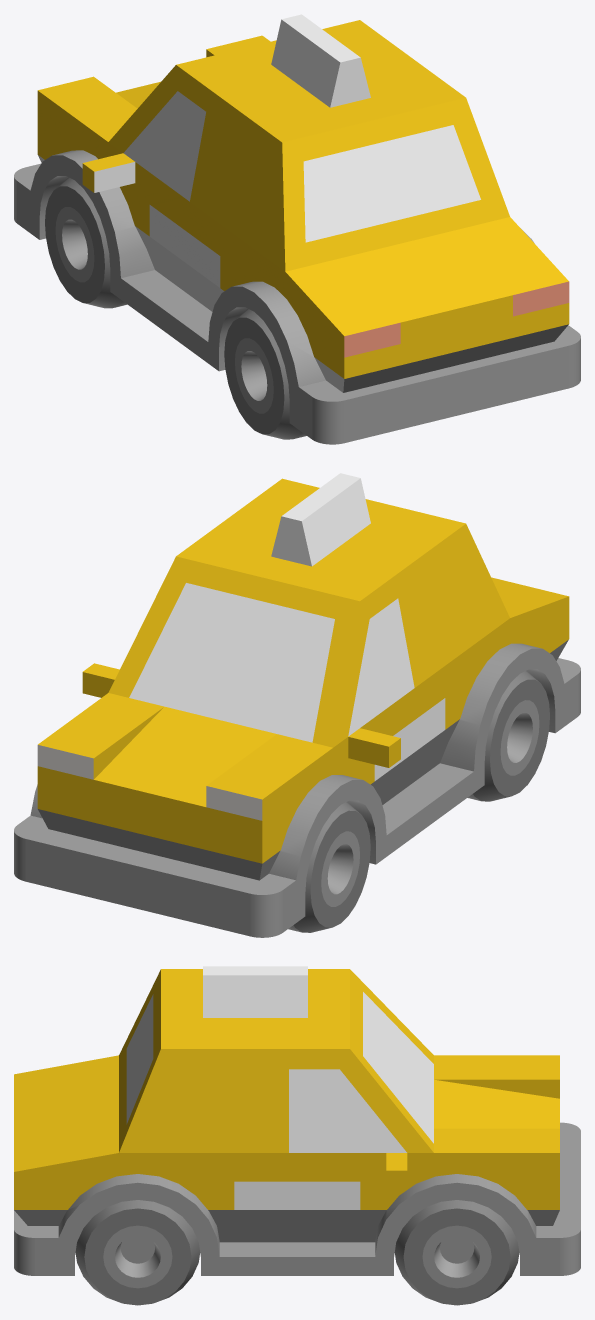
The model's file is taxi.glb.
3 views of the same model, one above another, from view 1: azimuth 30°, elevation 25°; view 2: azimuth 150°, elevation 25°; view 3: azimuth 270°, elevation 25° (orthographic). The views are drawn at different scales.
Visible parts, largest first — view 1: body, wheel_frontLeft, wheel_backLeft; view 2: body, wheel_backLeft, wheel_frontLeft; view 3: body, wheel_backRight, wheel_frontRight.
Part boxes in pixels (x1,y1,x2,y2): body: (14,14,580,444); wheel_frontLeft: (45,177,127,308); wheel_backLeft: (224,309,306,439); body: (14,473,580,937); wheel_backLeft: (467,671,549,801); wheel_frontLeft: (288,802,370,932); body: (14,966,580,1275); wheel_backRight: (75,1200,200,1305); wheel_frontRight: (394,1200,519,1305).
Bounding box in the file's own units: 1.5 × 1.5 × 2.7.
